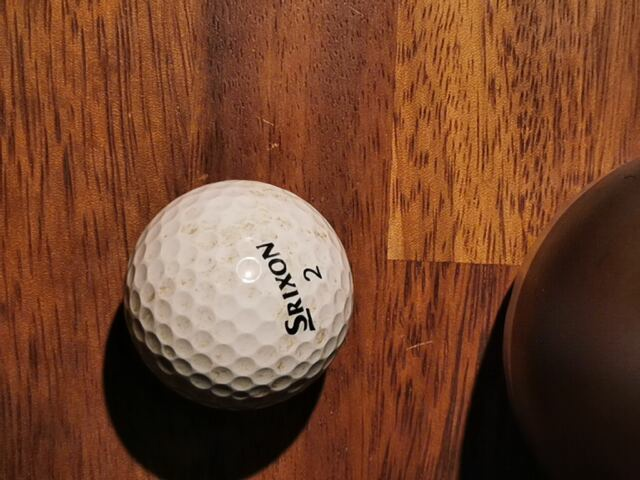Ball: (124, 179, 354, 411)
Srixon: (256, 242, 316, 335)
